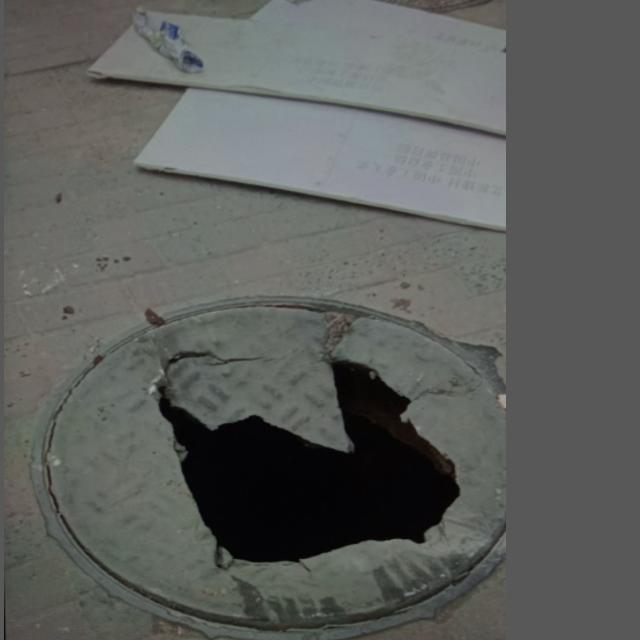broke: (30, 295, 504, 640)
